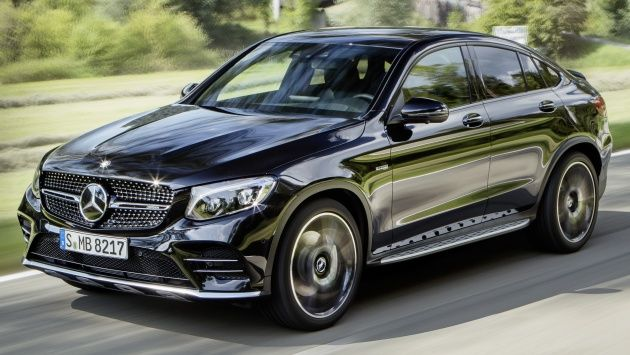pickup: (21, 26, 611, 333)
